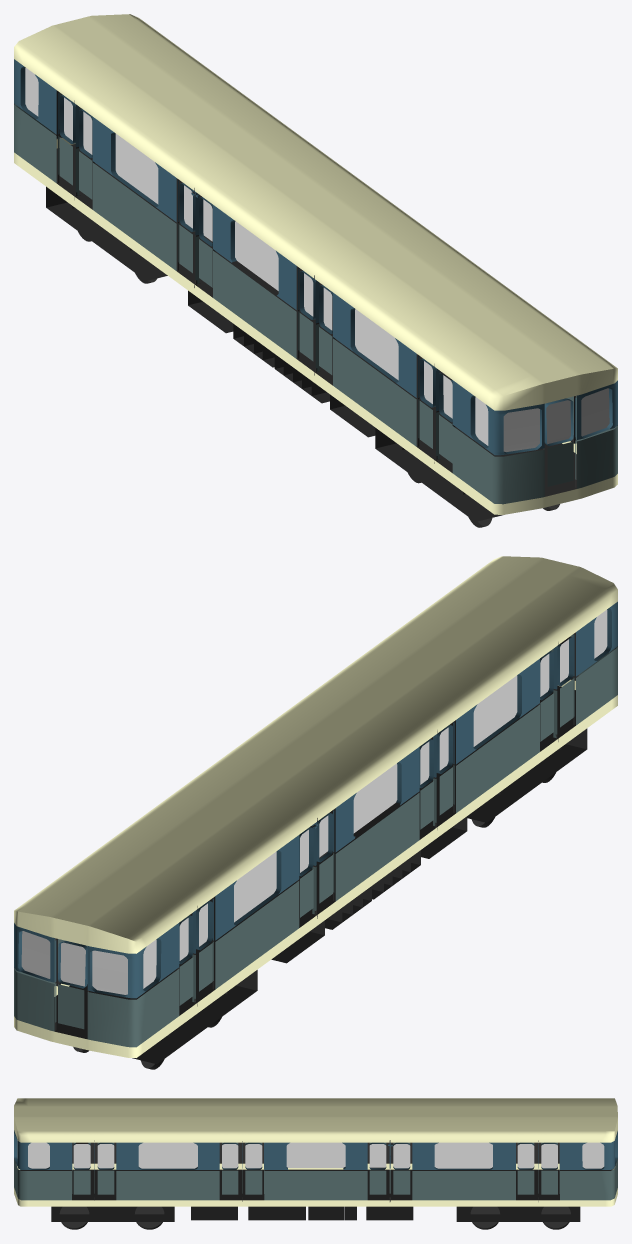
File: train.obj
3 renders of one model, top to bottom at view 1: azimuth 30°, elevation 25°; view 2: azimuth 150°, elevation 25°; view 3: azimuth 270°, elevation 25°, orthographic. The views are drawn at different scales.
Parts seen in each view (by area): view 1: wagon_2, appareillage_12, appareillage_13, appareillage_11, appareillage_10; view 2: wagon_2, appareillage_13, appareillage_12, appareillage_10, appareillage_11; view 3: wagon_2, appareillage_13, appareillage_12, appareillage_10, appareillage_11, roue_2, roue_3, roue_7, roue_6, appareillage_8.
Part boxes in pixels (left/top/right/bottom): wagon_2: left=14, top=14, right=617, bottom=514; appareillage_12: left=375, top=428, right=502, bottom=521; appareillage_13: left=46, top=186, right=167, bottom=280; appareillage_11: left=330, top=394, right=375, bottom=437; appareillage_10: left=188, top=290, right=233, bottom=333; wagon_2: left=14, top=556, right=617, bottom=1057; appareillage_13: left=132, top=970, right=257, bottom=1064; appareillage_12: left=467, top=728, right=587, bottom=822; appareillage_10: left=271, top=920, right=324, bottom=963; appareillage_11: left=421, top=816, right=467, bottom=858; wagon_2: left=14, top=1098, right=617, bottom=1206; appareillage_13: left=456, top=1206, right=580, bottom=1221; appareillage_12: left=51, top=1206, right=174, bottom=1221; appareillage_10: left=366, top=1206, right=413, bottom=1220; appareillage_11: left=191, top=1206, right=237, bottom=1220; roue_2: left=470, top=1206, right=499, bottom=1229; roue_3: left=541, top=1206, right=570, bottom=1229; roue_7: left=59, top=1206, right=89, bottom=1229; roue_6: left=135, top=1206, right=164, bottom=1229; appareillage_8: left=331, top=1206, right=344, bottom=1220.
Bounding box in the file's own units: 73.25 × 98.21 × 503.
